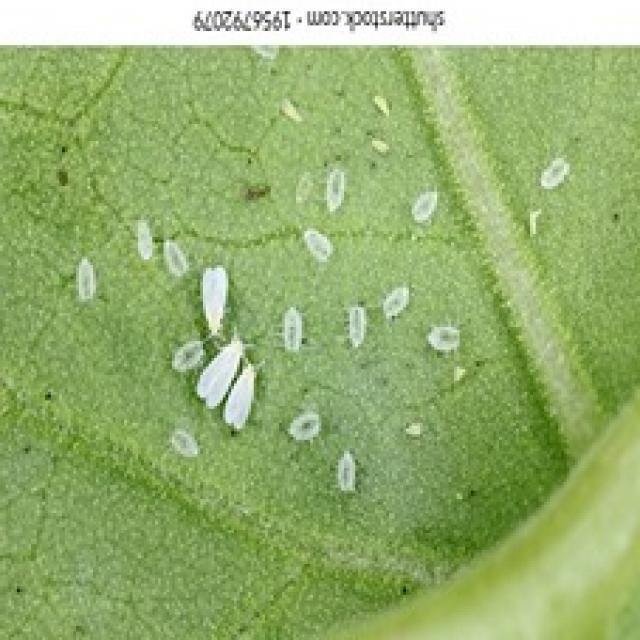Septoria_Leaf_Spot: (157, 252, 263, 423), (418, 312, 476, 355), (300, 173, 351, 207), (409, 182, 446, 226), (304, 220, 338, 260), (326, 455, 362, 492), (349, 305, 376, 353), (166, 431, 205, 458), (134, 222, 157, 266), (367, 130, 400, 160), (71, 266, 99, 294), (296, 408, 323, 436), (538, 160, 566, 186), (280, 106, 308, 115)
